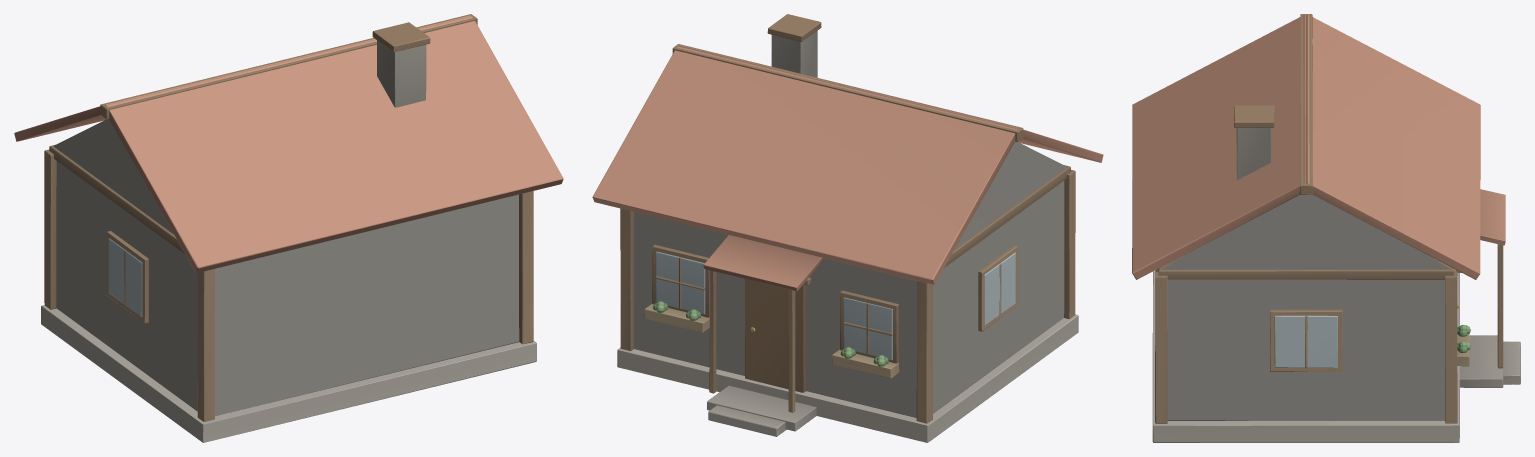
The model's file is home_house__red_low.glb.
The picture shows the model from 3 angles, left to right: view 1: azimuth 30°, elevation 25°; view 2: azimuth 150°, elevation 25°; view 3: azimuth 270°, elevation 25°; orthographic projection. The views are drawn at different scales.
Size of the model in its own units: 7 by 5.59 by 6.7.
